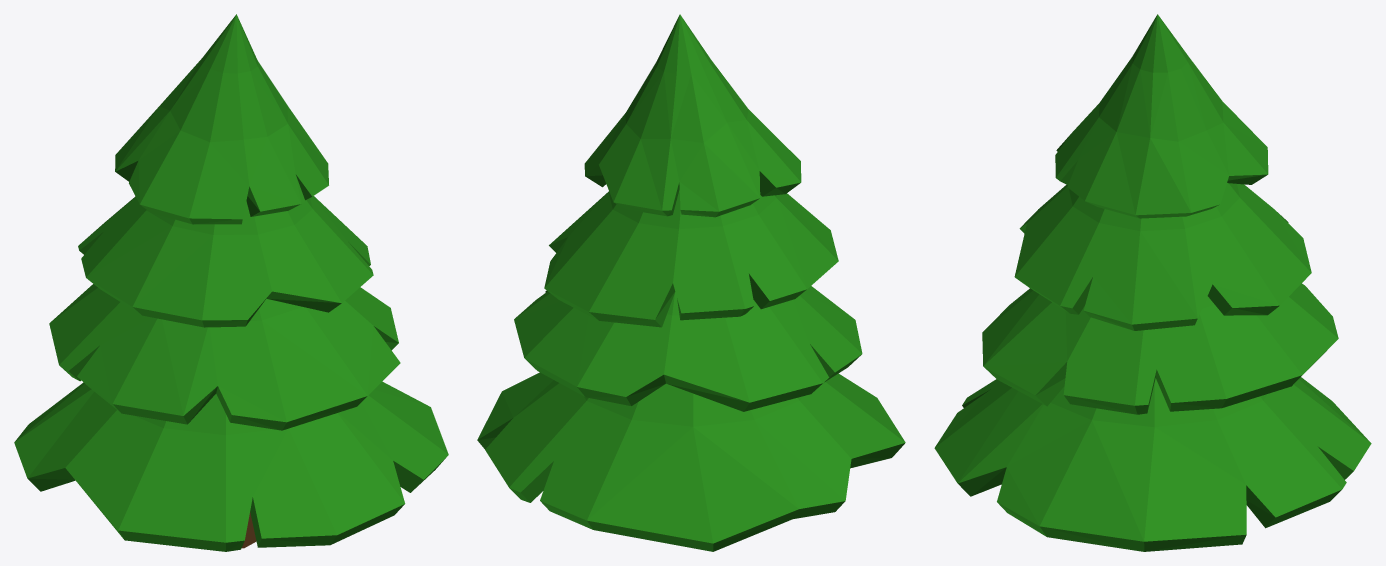
3 renders of one model, left to right at view 1: azimuth 30°, elevation 25°; view 2: azimuth 150°, elevation 25°; view 3: azimuth 270°, elevation 25°, orthographic.
Parts seen in each view (by area): view 1: Low Poly Pine Tree; view 2: Low Poly Pine Tree; view 3: Low Poly Pine Tree.
Part boxes in pixels (x1=…): Low Poly Pine Tree: x1=14, y1=14, x2=448, y2=551; Low Poly Pine Tree: x1=477, y1=14, x2=905, y2=551; Low Poly Pine Tree: x1=934, y1=14, x2=1371, y2=551.
Bounding box in the file's own units: 3.12 × 4.12 × 3.13.
